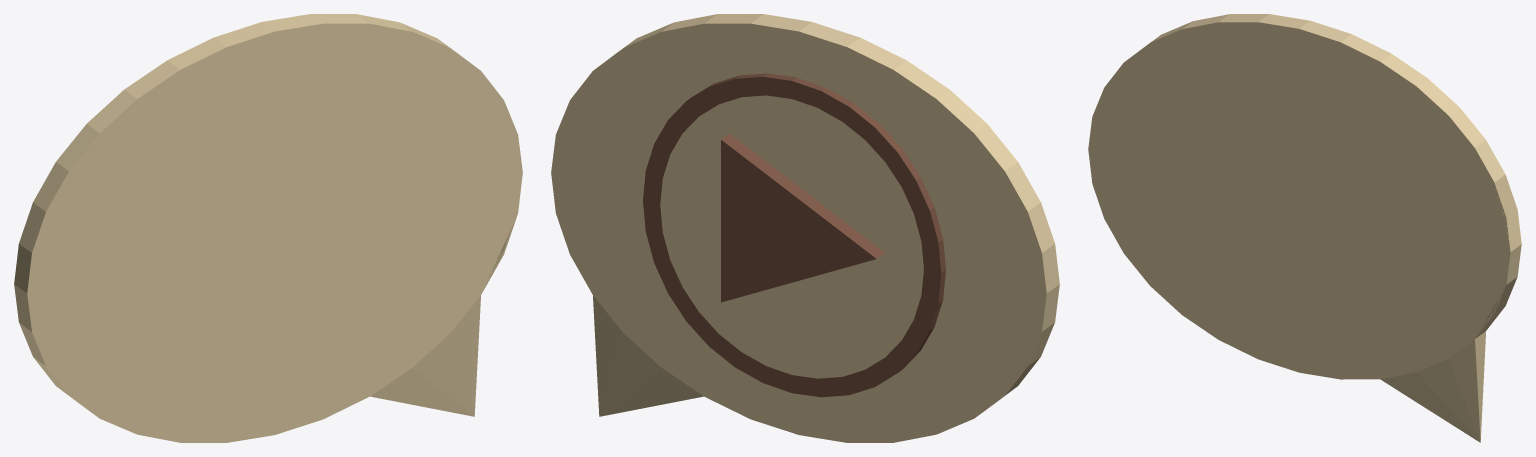
The model's file is ahajradino1_playbutton.fbx.
The picture shows the model from 3 angles, left to right: view 1: azimuth 30°, elevation 25°; view 2: azimuth 150°, elevation 25°; view 3: azimuth 330°, elevation 25°; orthographic projection. The views are drawn at different scales.
Parts seen in each view (by area): view 1: Circle; view 2: Circle, Circle.001, Plane; view 3: Circle.
Part boxes in pixels (bbox=[...]): Circle: bbox=[14, 14, 522, 442]; Circle: bbox=[551, 14, 1059, 442]; Circle.001: bbox=[643, 73, 945, 397]; Plane: bbox=[721, 133, 884, 302]; Circle: bbox=[1088, 14, 1521, 442].
Bounding box in the file's own units: 71.31 × 60.56 × 5.37.
